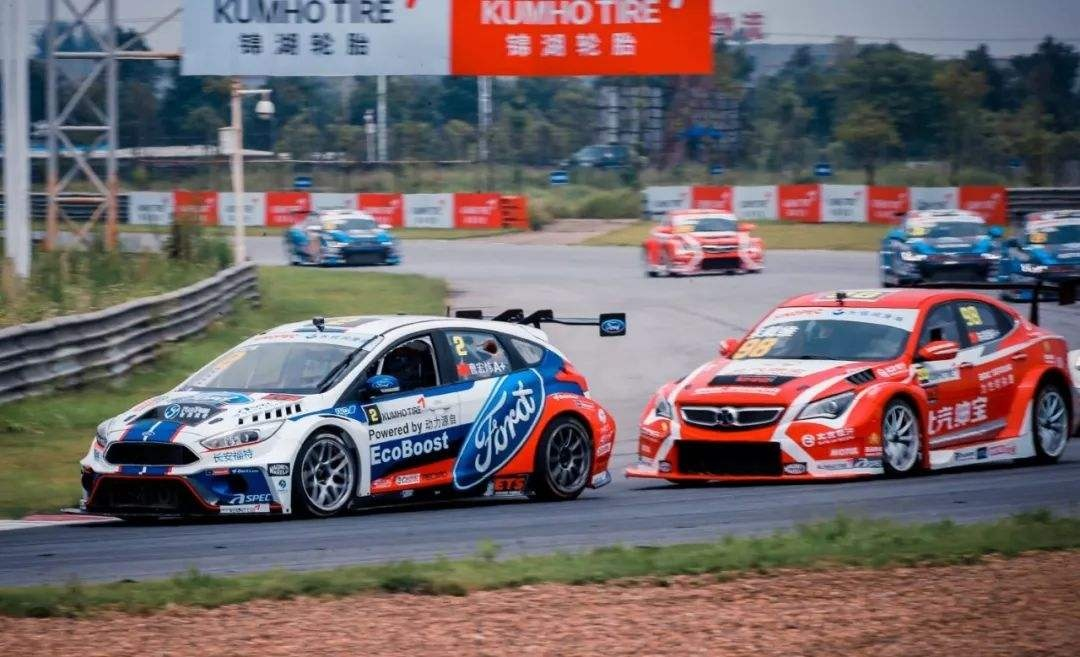racing car: (76, 294, 628, 517), (646, 276, 1061, 484), (868, 205, 998, 281), (291, 194, 411, 265), (646, 205, 766, 276)
